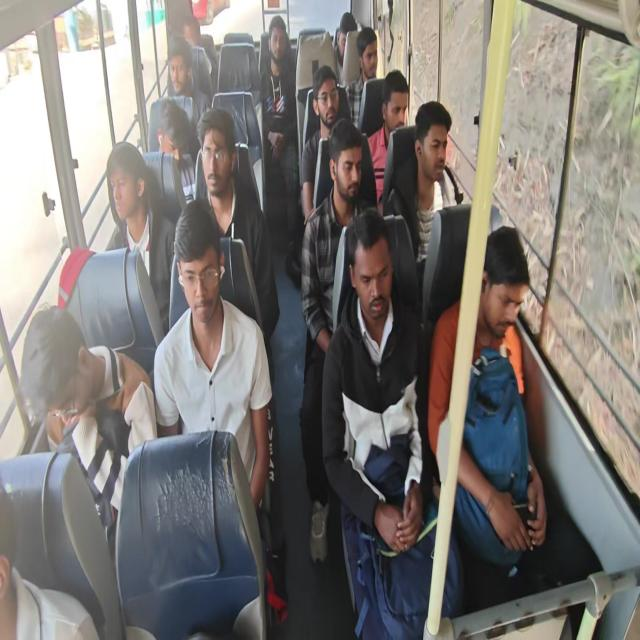person: (25, 314, 92, 422), (173, 223, 226, 324), (476, 237, 524, 348), (354, 245, 393, 324), (101, 158, 148, 223), (332, 127, 367, 201), (421, 118, 451, 190), (202, 126, 229, 202), (158, 107, 189, 163), (382, 78, 410, 140), (163, 43, 190, 103), (175, 14, 212, 53), (313, 78, 340, 122), (334, 16, 359, 58), (265, 23, 289, 62), (362, 39, 382, 80)
